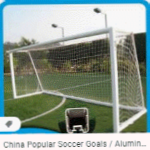goals: (6, 25, 147, 133)
